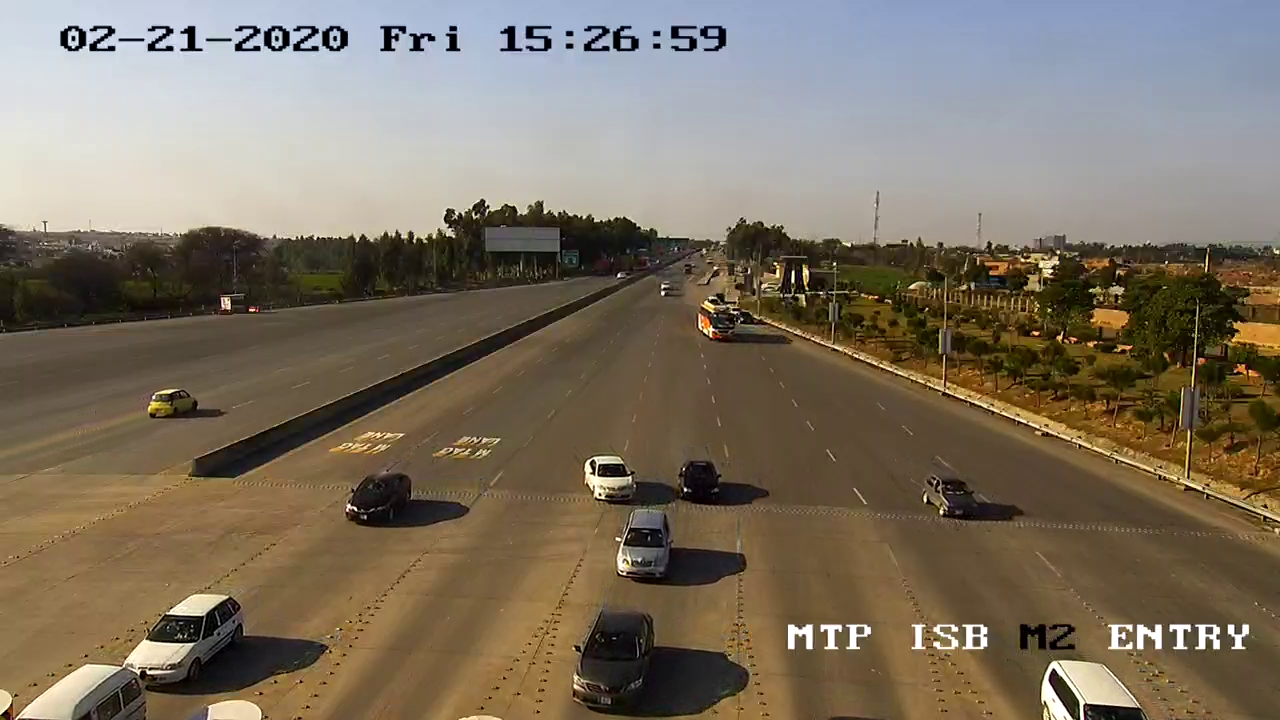f1: (117, 583, 247, 686), (561, 603, 668, 720), (608, 505, 678, 586), (338, 466, 421, 530), (572, 451, 644, 505), (921, 467, 984, 525)
